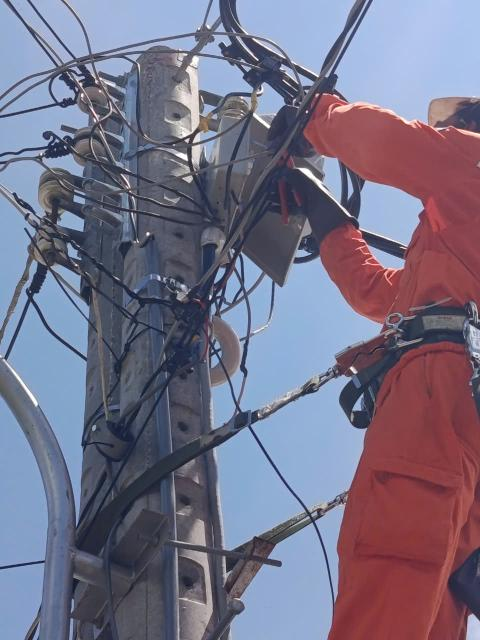gloves: (241, 141, 363, 248), (249, 61, 332, 152)
harness: (308, 296, 480, 415)
helmet: (412, 71, 480, 146)
